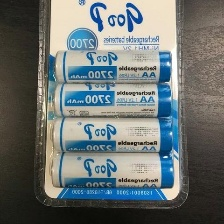battery: (49, 112, 174, 155), (49, 150, 174, 191), (51, 46, 175, 86), (51, 80, 175, 119)
